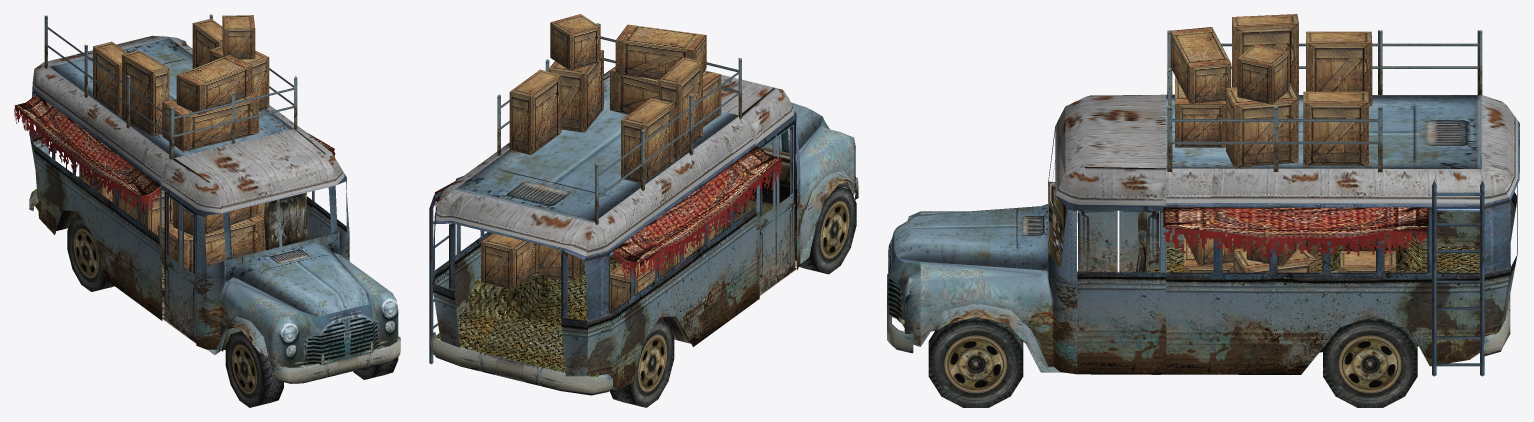
File: NBus1p.glb
3 views of the same model, side by side, from view 1: azimuth 30°, elevation 25°; view 2: azimuth 150°, elevation 25°; view 3: azimuth 270°, elevation 25° (orthographic). The views are drawn at different scales.
Visible parts, largest first — view 1: _NBus1p; view 2: _NBus1p; view 3: _NBus1p.
Part boxes in pixels (x1=…): _NBus1p: x1=14, y1=14, x2=400, y2=407; _NBus1p: x1=429, y1=14, x2=858, y2=407; _NBus1p: x1=887, y1=14, x2=1519, y2=407.
Size of the model in its own units: 3.63 by 4.78 by 8.12.
Materials: 4 (4 with a texture image).
